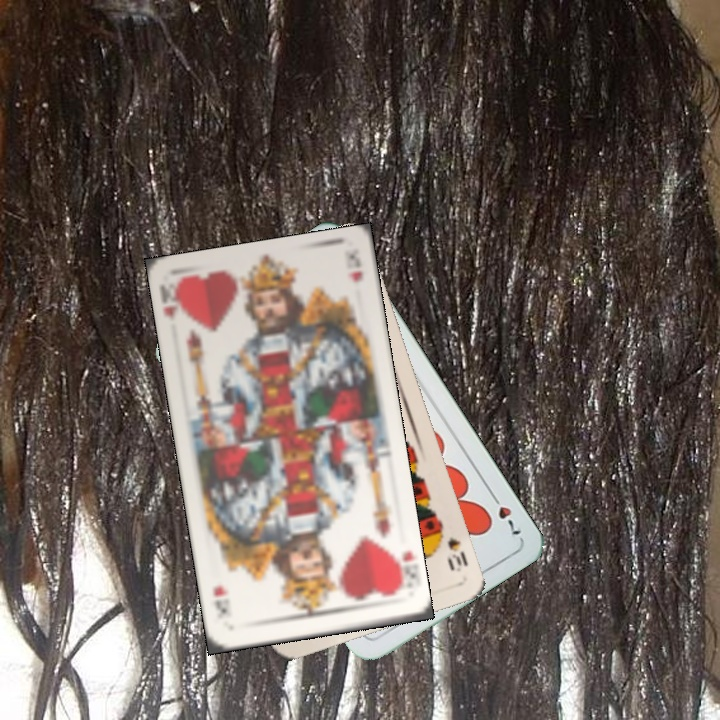H7: (485, 487, 524, 538)
HK: (388, 547, 416, 593), (156, 281, 180, 323)
S10: (433, 521, 471, 574)
